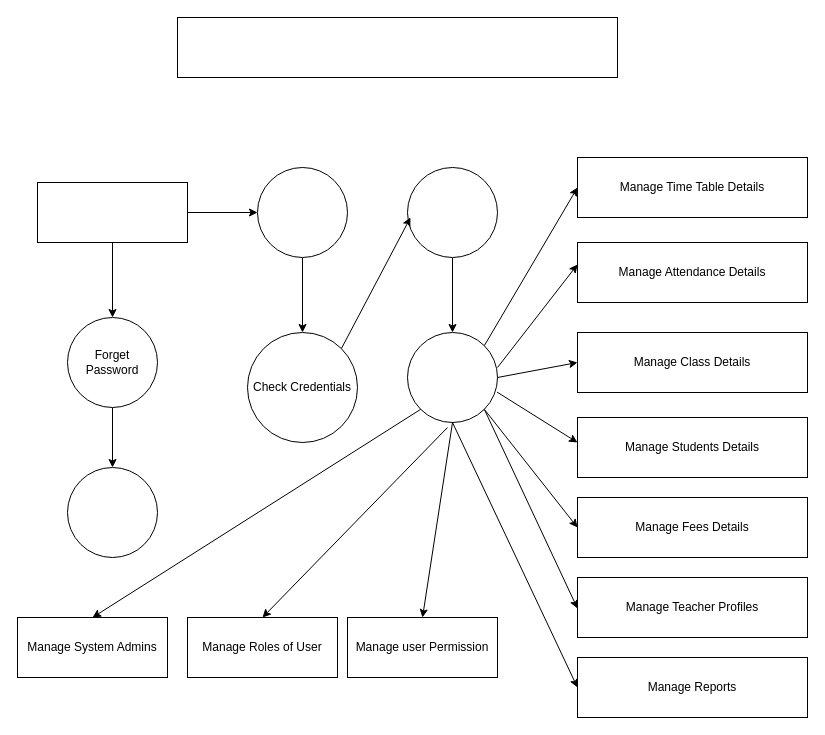
This 825x735 diagram has some shape labels left out. The shapes that lost their labels are listed below. From the top down, each one's centre as x and y in pixels, then its label:
the point at 397,47: Student Information Systgem
the point at 112,212: Admin
the point at 302,212: Login to system
the point at 452,212: Check roles of Access
the point at 452,377: Manage Modules
the point at 112,512: Send E-mail to User
